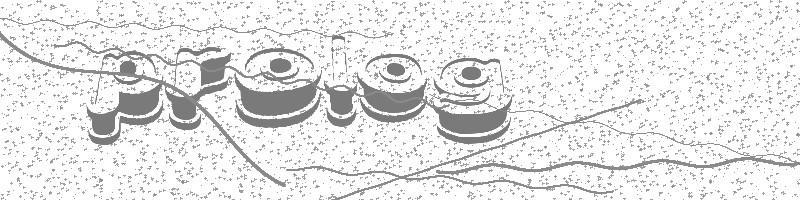g: (434, 58, 515, 144)
l: (324, 36, 357, 126)
o: (234, 48, 321, 128), (358, 53, 428, 123)
p: (87, 51, 163, 144)
r: (166, 47, 231, 131)
